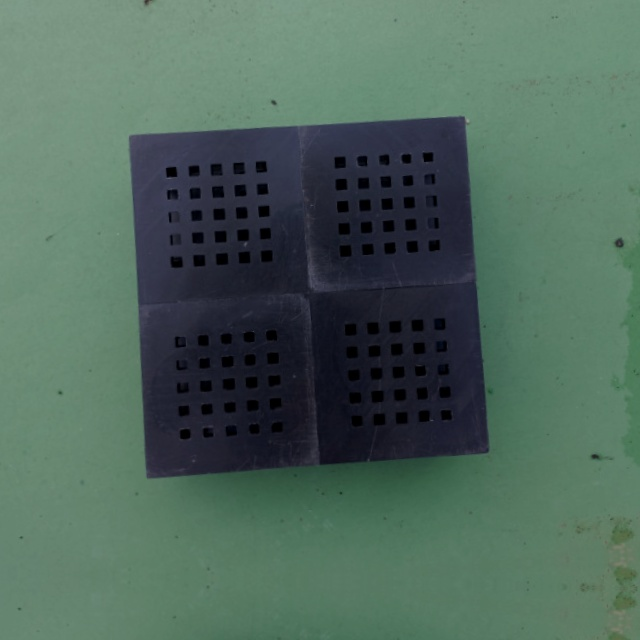pallet: (119, 104, 497, 493)
